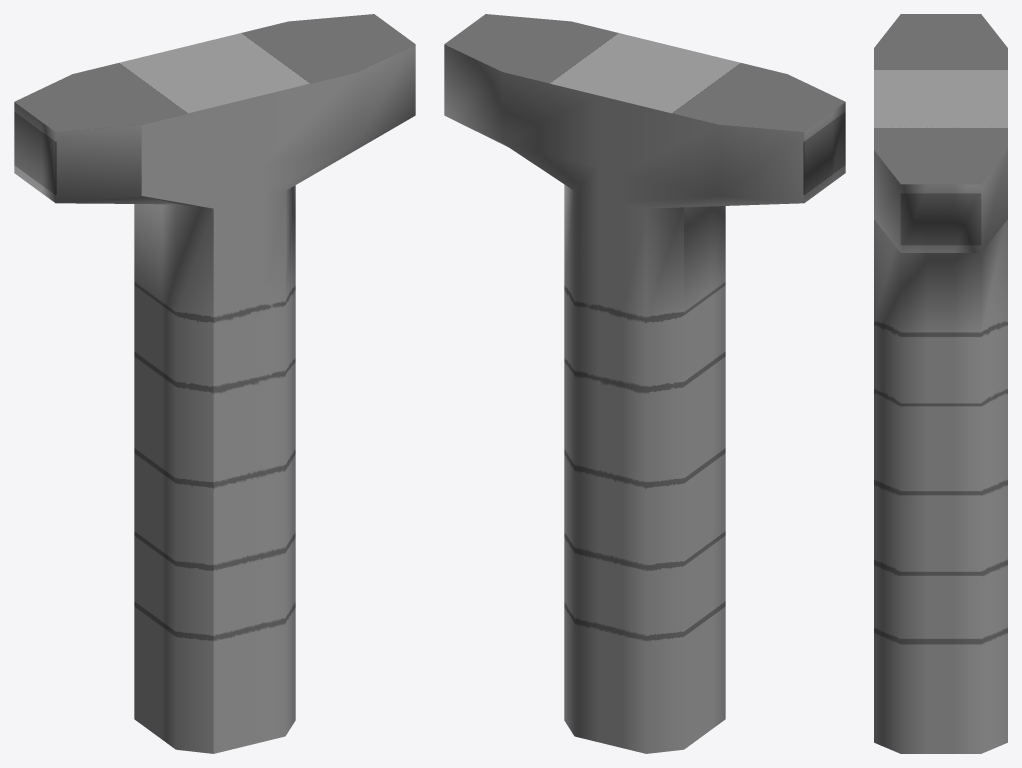
The model's file is Battle Road Supports.fbx.
3 views of the same model, side by side, from view 1: azimuth 30°, elevation 25°; view 2: azimuth 150°, elevation 25°; view 3: azimuth 270°, elevation 25° (orthographic). The views are drawn at different scales.
Parts seen in each view (by area): view 1: Support01; view 2: Support01; view 3: Support01.
Part boxes in pixels (left/top/right/bottom): Support01: left=14, top=14, right=415, bottom=753; Support01: left=444, top=14, right=845, bottom=753; Support01: left=874, top=14, right=1007, bottom=753.
Size of the model in its own units: 4.27 by 7.33 by 1.42.
